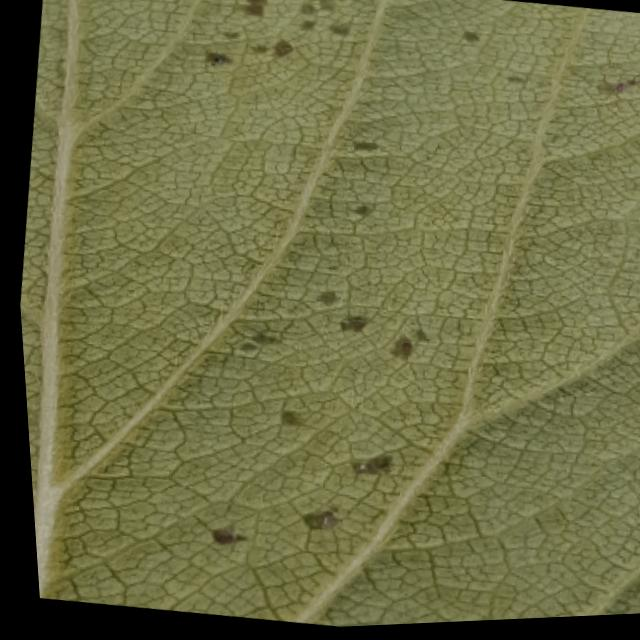Angular Leafspot: (16, 0, 640, 616)
